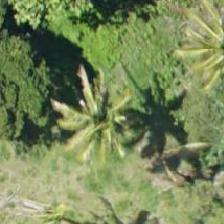coconut_tree: (54, 62, 144, 152), (0, 174, 88, 223)
